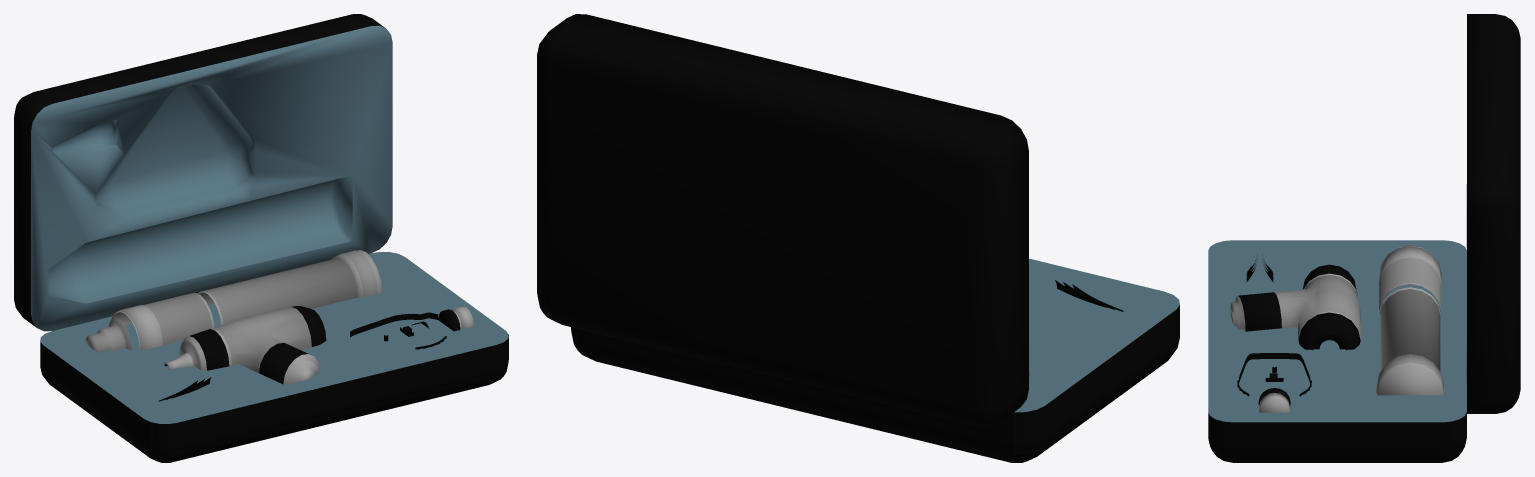
Rendered from COC01.fbx.
3 views of the same model, side by side, from view 1: azimuth 30°, elevation 25°; view 2: azimuth 150°, elevation 25°; view 3: azimuth 270°, elevation 25° (orthographic). The views are drawn at different scales.
Visible parts, largest first — view 1: COC01; view 2: COC01; view 3: COC01.
Part boxes in pixels (x1,y1,x2,y2): COC01: (14, 14, 508, 462); COC01: (537, 14, 1179, 462); COC01: (1208, 14, 1520, 462).
Size of the model in its own units: 20 by 14.5 by 14.5.
